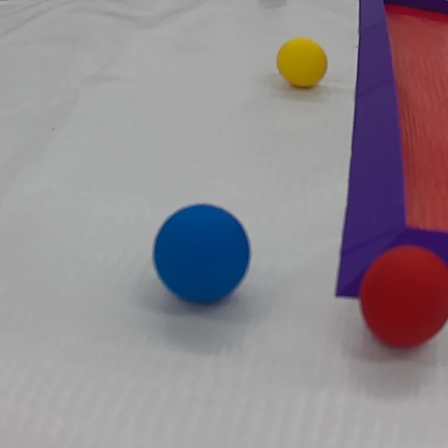blue: (148, 202, 251, 314)
red: (348, 246, 448, 354)
red_aim: (330, 2, 448, 325)
yellow: (276, 33, 328, 90)
